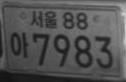3: (94, 35, 115, 69)
7: (31, 32, 50, 66)
8: (73, 35, 91, 68), (76, 12, 89, 32), (62, 11, 74, 29)
9: (53, 33, 71, 68)
서울_H: (30, 9, 57, 28)
아: (9, 31, 28, 57)
